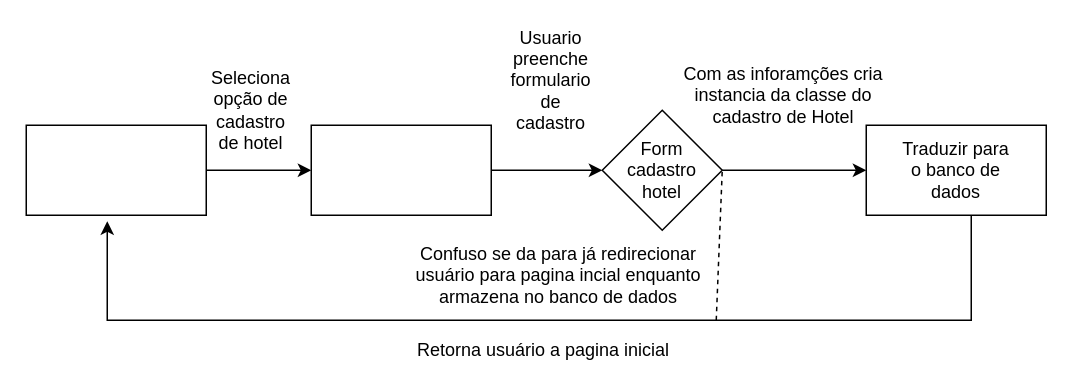
Some shapes in this 1073 by 390 pixel diagram are drawn without their labels. Here are the shapes that lost their labels. From the top down, the centre of each, then its label:
At point 115,169: "Index".
At point 400,169: "cadastroHotel".
